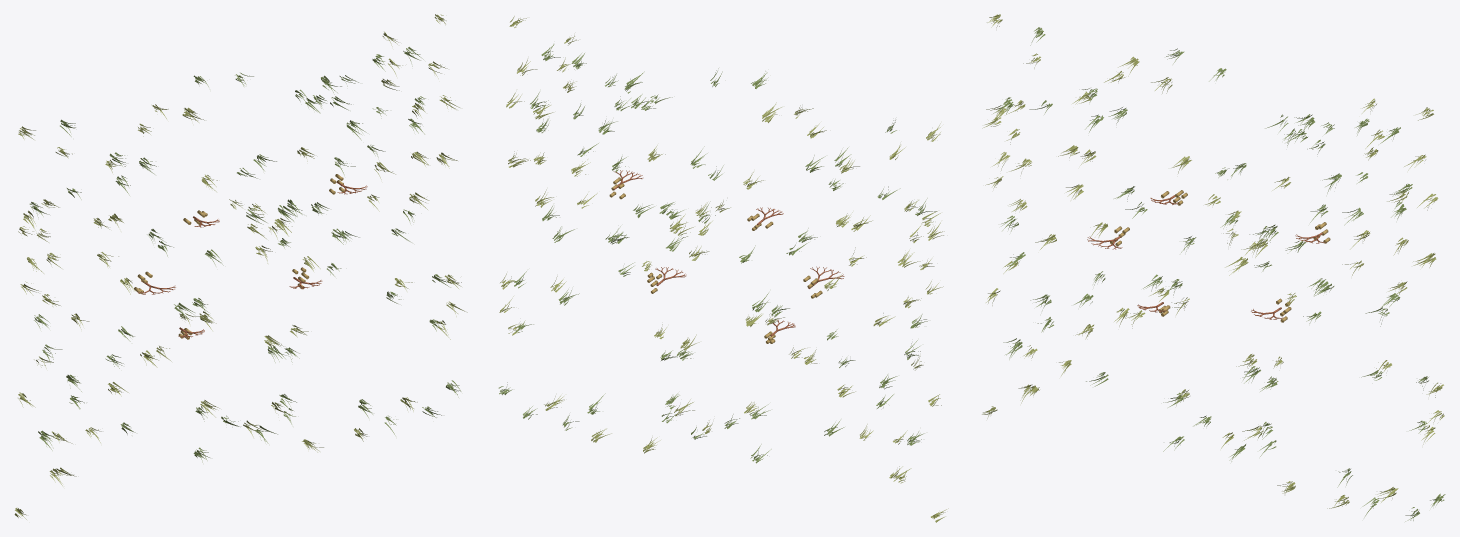
Rendered from marine_life.glb.
The picture shows the model from 3 angles, left to right: view 1: azimuth 30°, elevation 25°; view 2: azimuth 150°, elevation 25°; view 3: azimuth 330°, elevation 25°; orthographic projection. The views are drawn at different scales.
Visible parts, largest first — view 1: marine_life; view 2: marine_life; view 3: marine_life.
Part boxes in pixels (x1,y1,x2,y2): marine_life: (14,14,467,519); marine_life: (498,16,948,522); marine_life: (982,14,1445,521).
Bounding box in the file's own units: 16.44 × 14.29 × 1.43.
